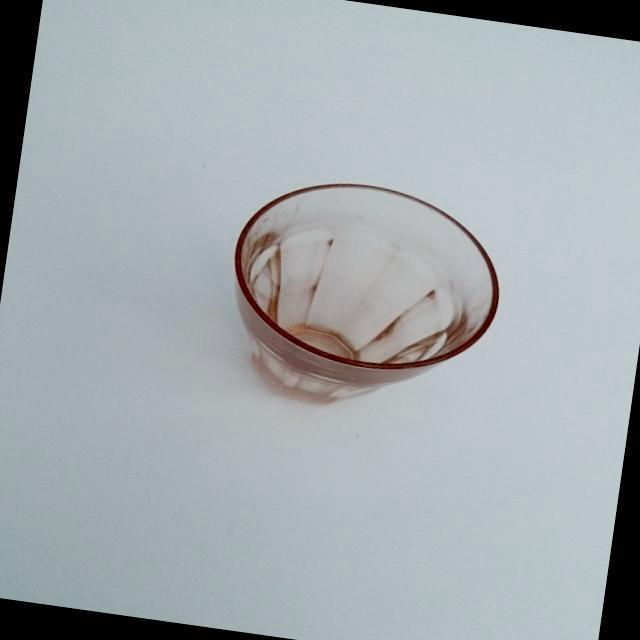glass: (206, 160, 524, 436)
